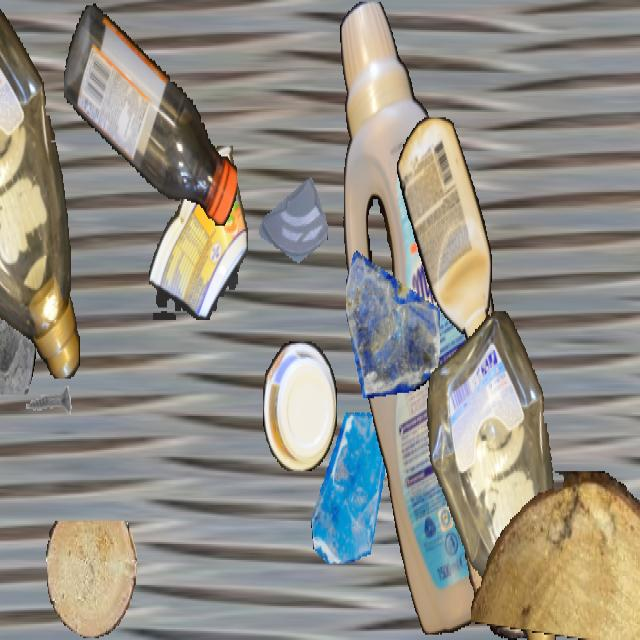glass: (346, 231, 440, 398), (309, 412, 393, 562), (259, 166, 327, 286), (0, 234, 39, 394)
metal: (461, 267, 523, 377), (21, 363, 73, 455)
plastic: (338, 2, 542, 634), (422, 311, 568, 638), (64, 2, 236, 229), (0, 1, 81, 378), (397, 117, 491, 345), (149, 146, 247, 320), (263, 342, 337, 469)
wood: (471, 471, 640, 638), (463, 450, 539, 638), (46, 521, 136, 638)
